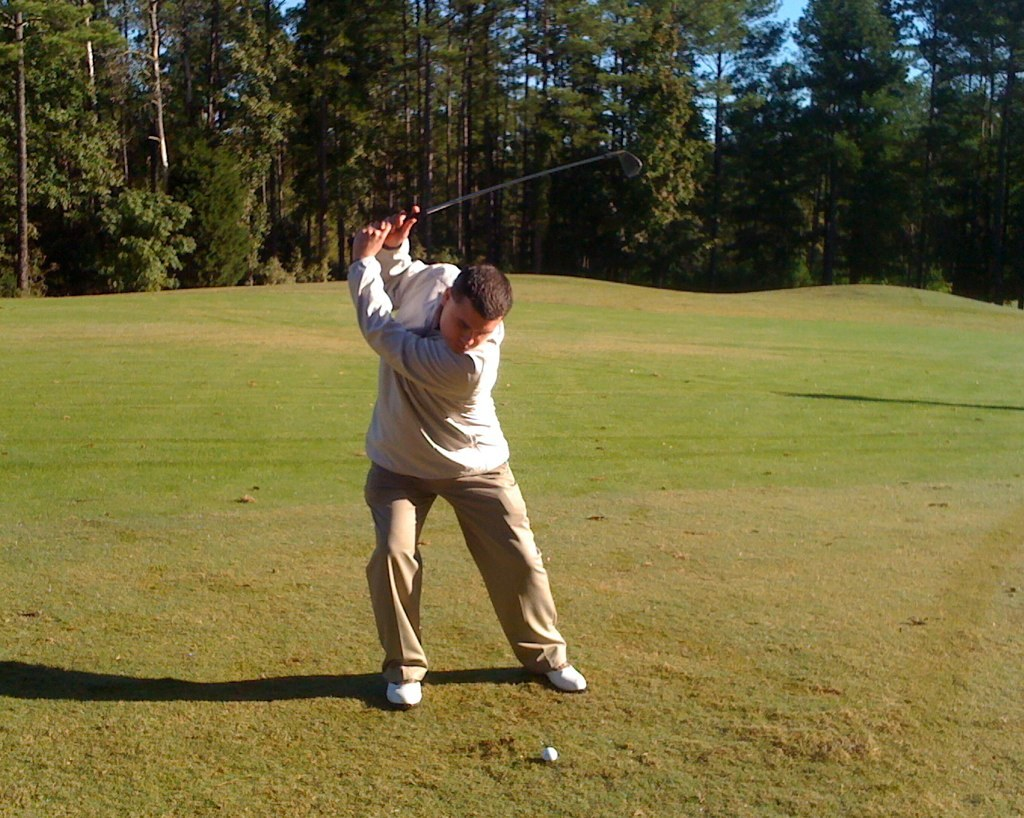Tree: (0, 0, 1024, 305)
